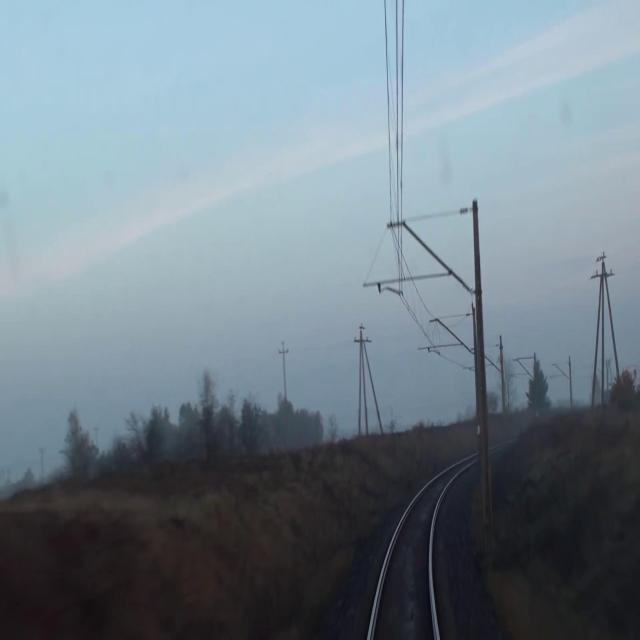rail-track: (371, 471, 452, 639)
